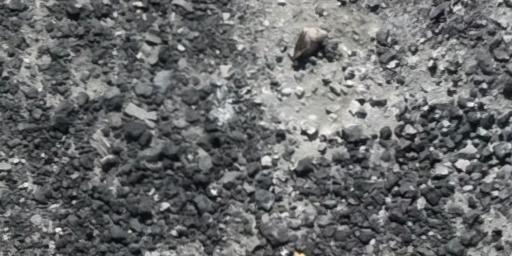skua: (288, 24, 331, 65)
